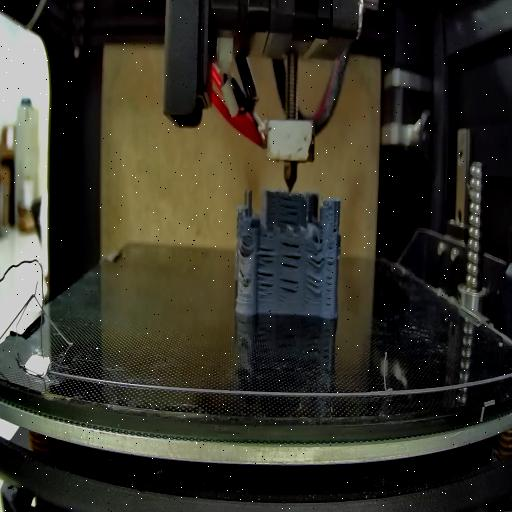cracks: (278, 238, 302, 270), (325, 246, 335, 312), (278, 192, 298, 224), (305, 274, 323, 300), (257, 270, 275, 296), (279, 276, 299, 298), (256, 244, 276, 264), (307, 251, 325, 269), (238, 240, 250, 256), (236, 266, 248, 280), (330, 222, 339, 236)
